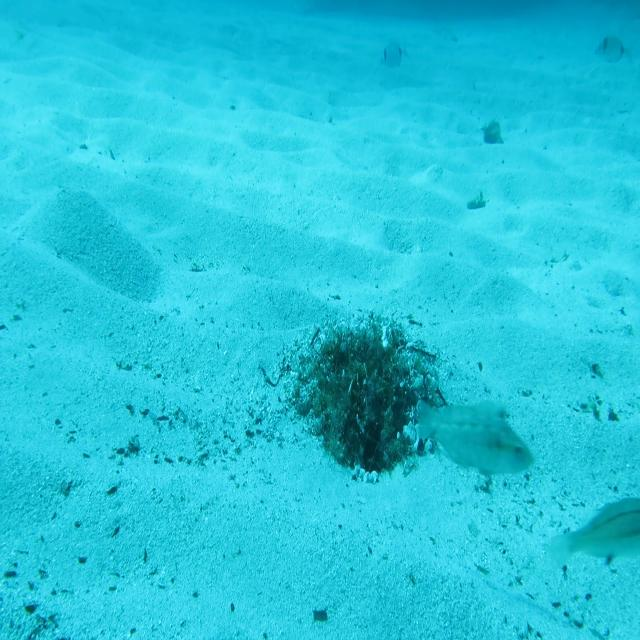CHASE_FLEE: (415, 395, 538, 479)
core_nest: (347, 345, 399, 381)
female: (547, 496, 640, 574)
nest: (280, 307, 456, 493)
other_fish: (592, 32, 637, 68), (379, 38, 409, 71)
vegetation: (479, 119, 508, 149), (463, 192, 488, 212), (313, 610, 329, 624)
